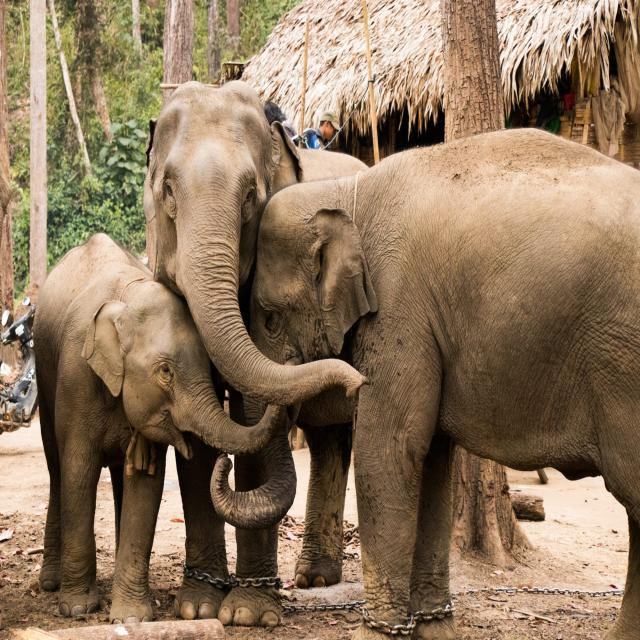Elephant: (260, 138, 639, 614), (145, 70, 327, 492), (23, 223, 220, 609)
